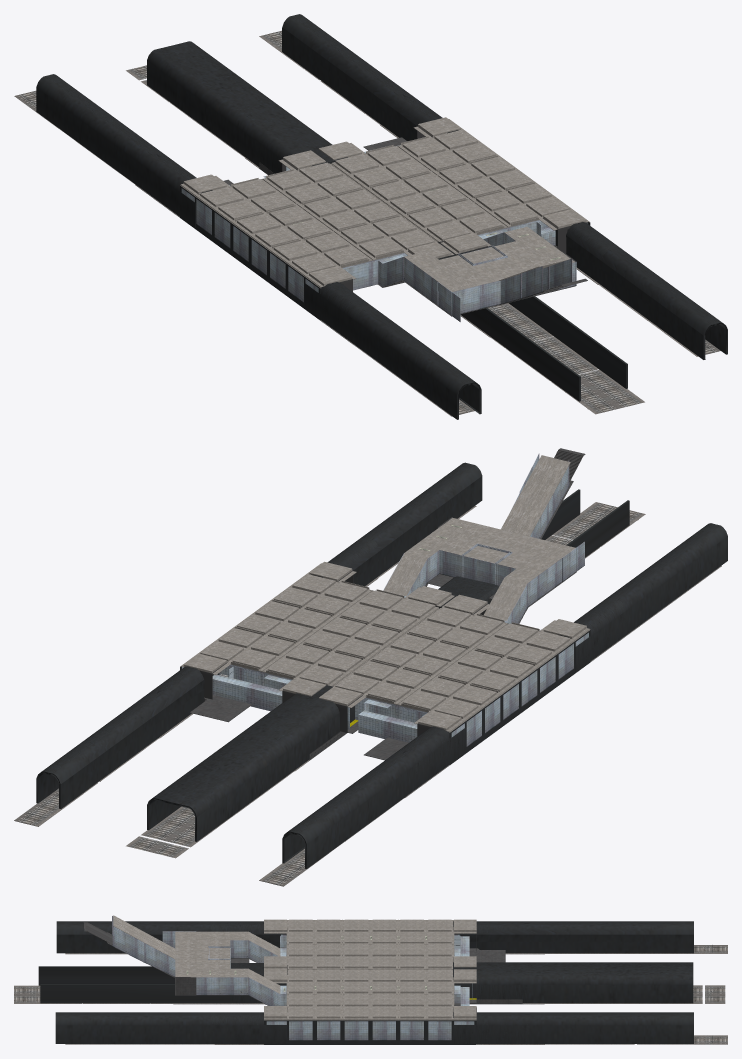
The model's file is final_scene_updated.fbx.
3 views of the same model, one above another, from view 1: azimuth 30°, elevation 25°; view 2: azimuth 150°, elevation 25°; view 3: azimuth 270°, elevation 25° (orthographic). The views are drawn at different scales.
Parts seen in each view (by area): view 1: St_03.020; view 2: St_03.020; view 3: St_03.020.
Boxes of the visible parts, x1=… form: St_03.020: x1=14, y1=14, x2=727, y2=419; St_03.020: x1=14, y1=448, x2=727, y2=886; St_03.020: x1=14, y1=915, x2=727, y2=1044.
Bounding box in the file's own units: 5309 × 1849 × 16048.
